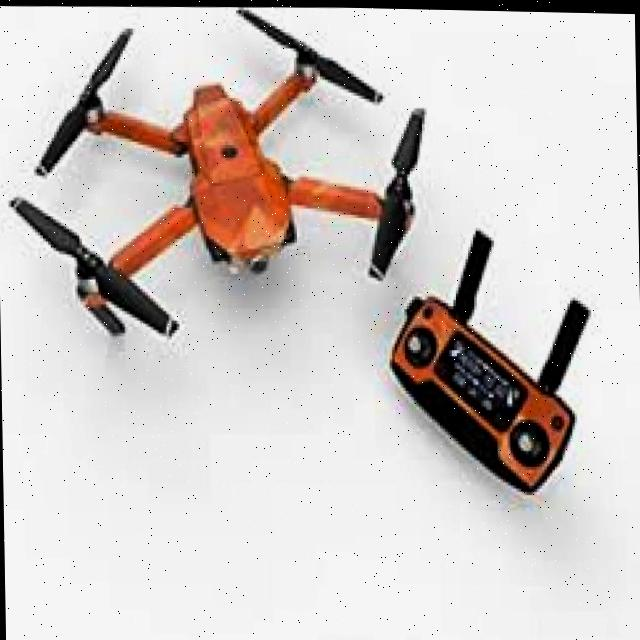drone: (0, 0, 437, 394)
